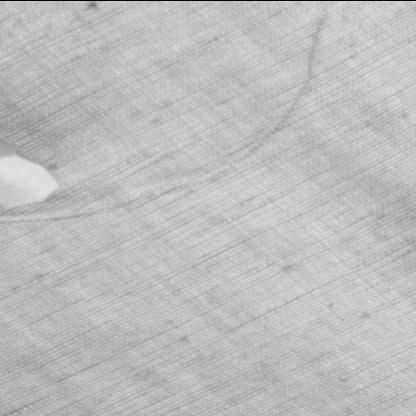objects: (1, 1, 334, 227), (1, 136, 61, 210)
